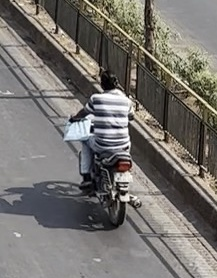BikeWithRider: (59, 64, 145, 230)
NoHelmet: (95, 66, 123, 94)
